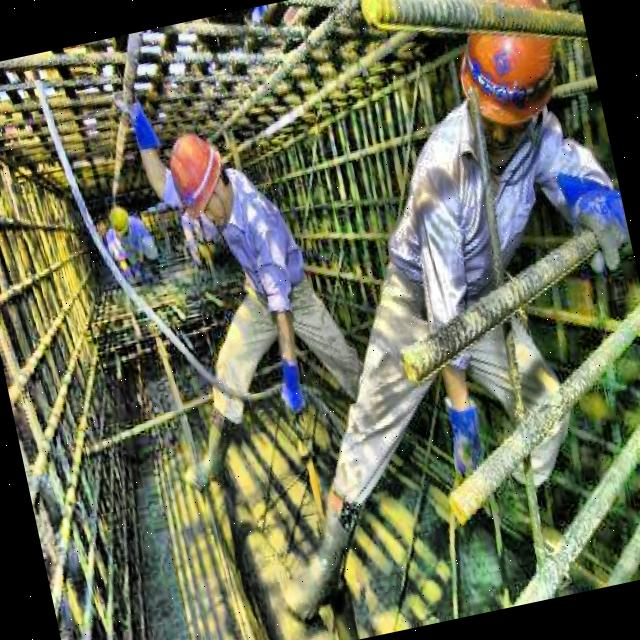helmet: (441, 0, 588, 143), (160, 124, 244, 238), (106, 200, 136, 240)
